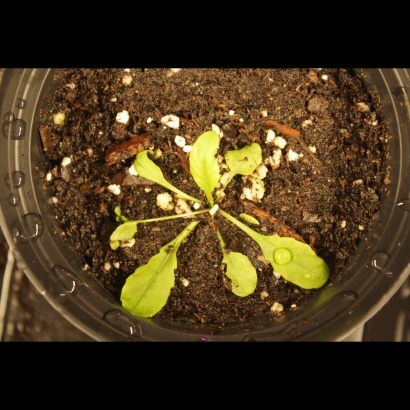leaf: (119, 231, 186, 324), (256, 228, 333, 292), (181, 125, 226, 199), (209, 240, 259, 301), (125, 148, 180, 189), (100, 208, 145, 256), (223, 134, 267, 179), (234, 203, 266, 235)
